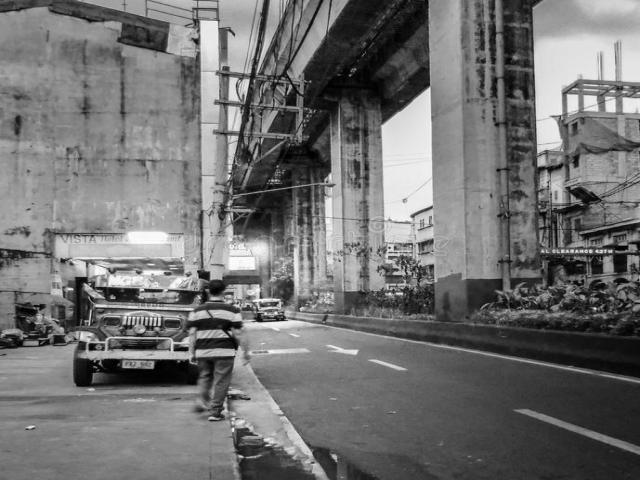jeepney: (77, 262, 220, 394)
